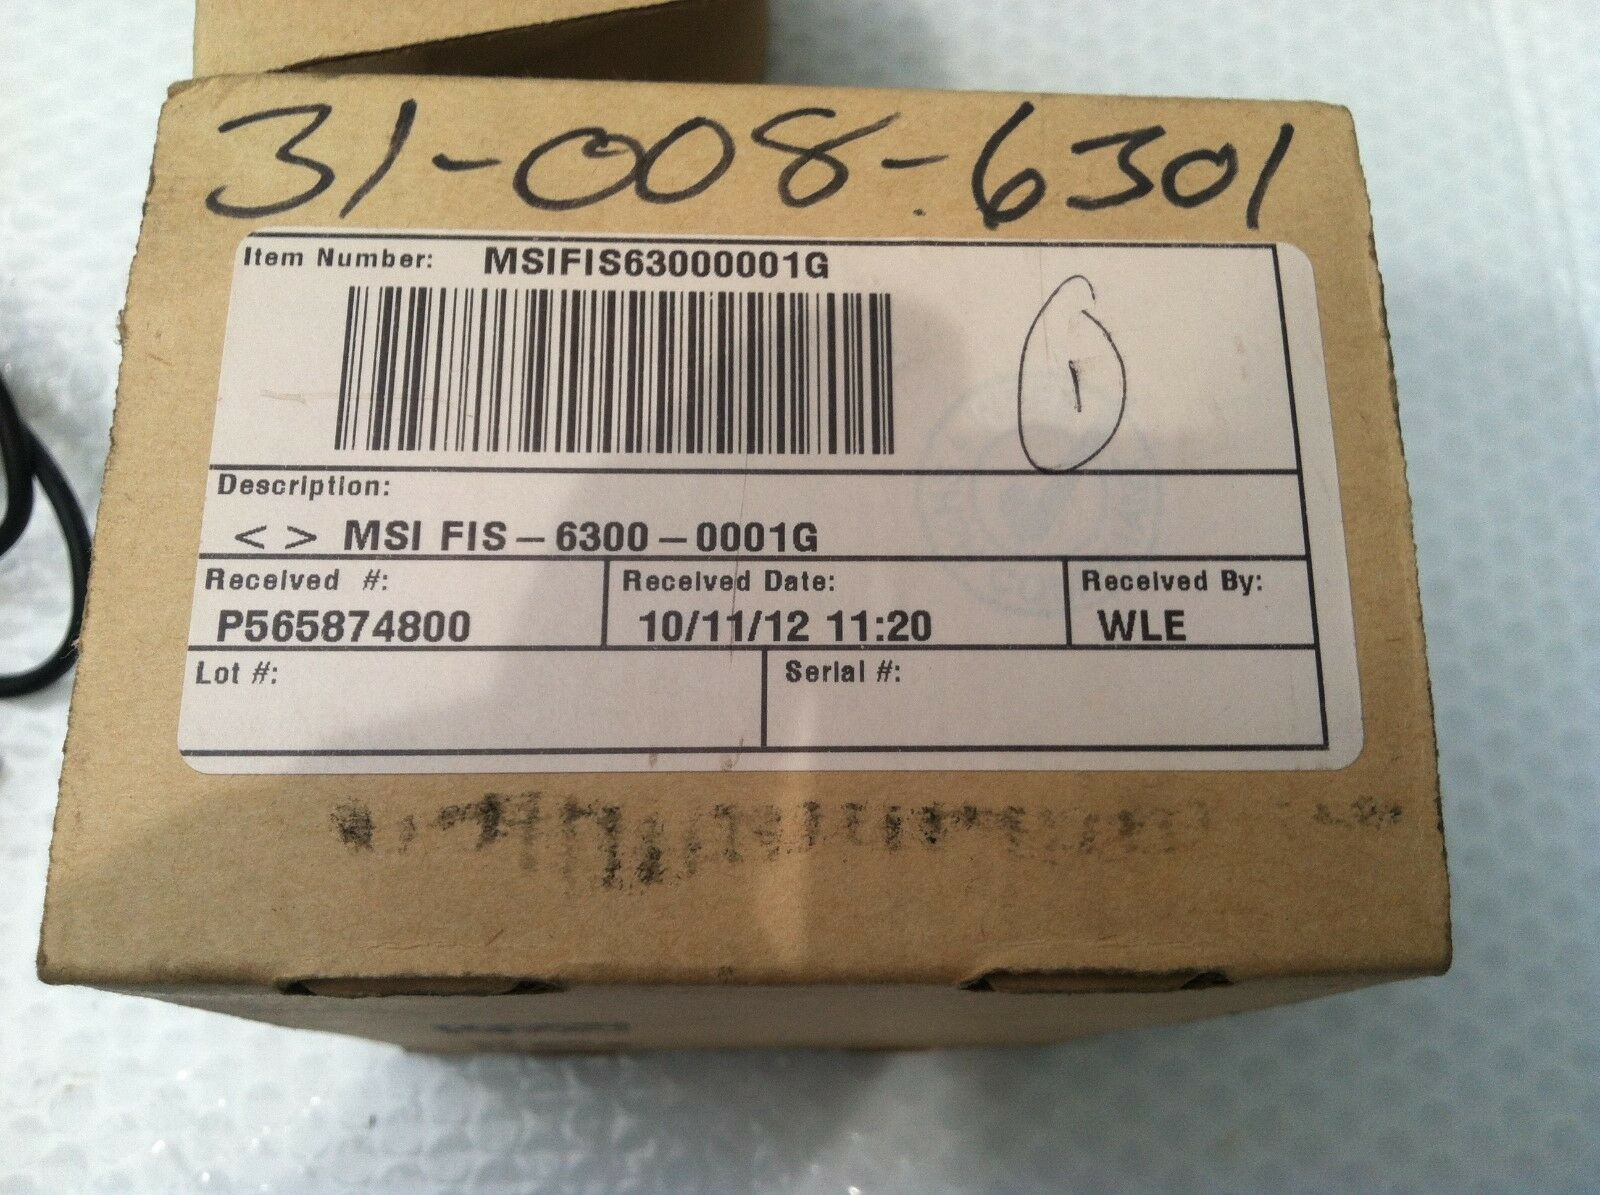barcode: (312, 275, 936, 469)
